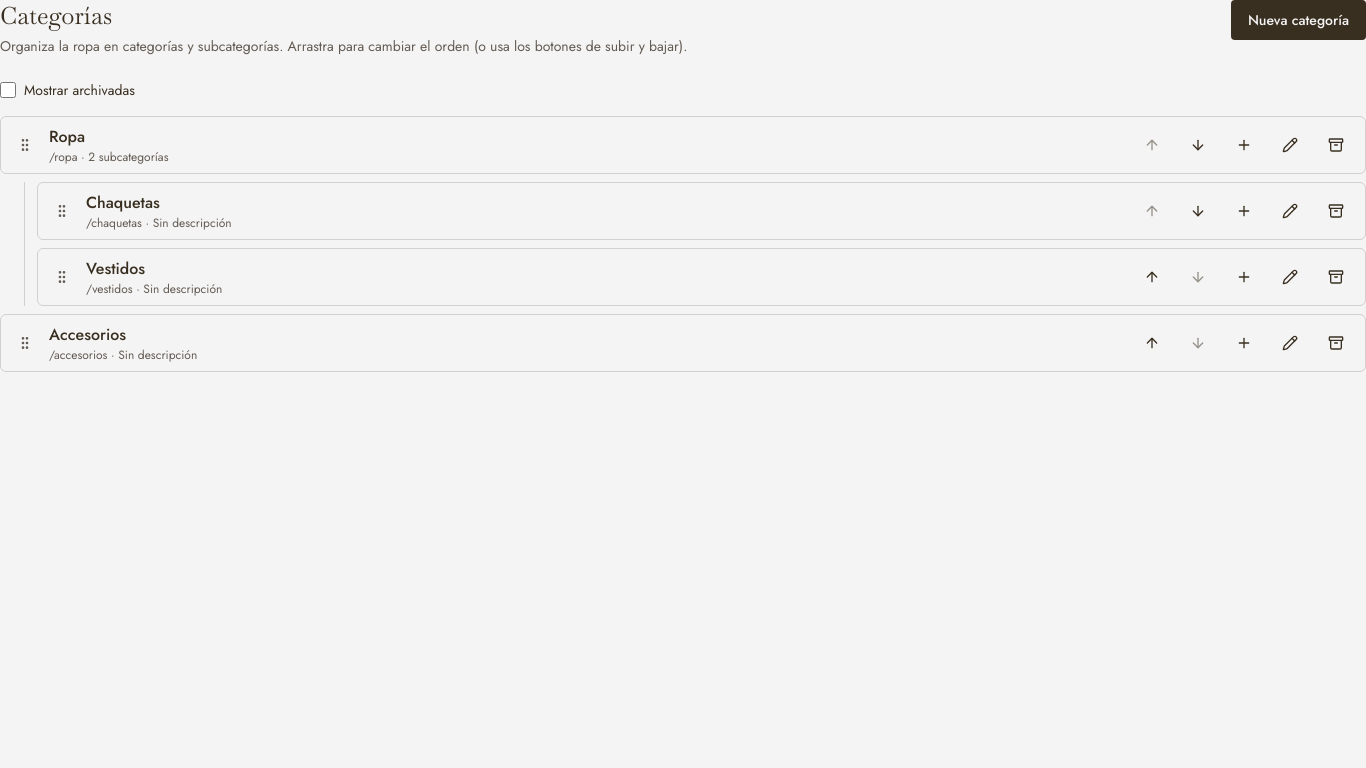
CategoriesPage · crear › crea con el slug generado del nombre, sin descripción ni padre, y avisa
The width and height of the screenshot is (1366, 768).
Expected: the text "Ropa" is shown, [49,125,85,148]
Click the button "Nueva categoría" at (1298, 20), box [1231,0,1365,40]
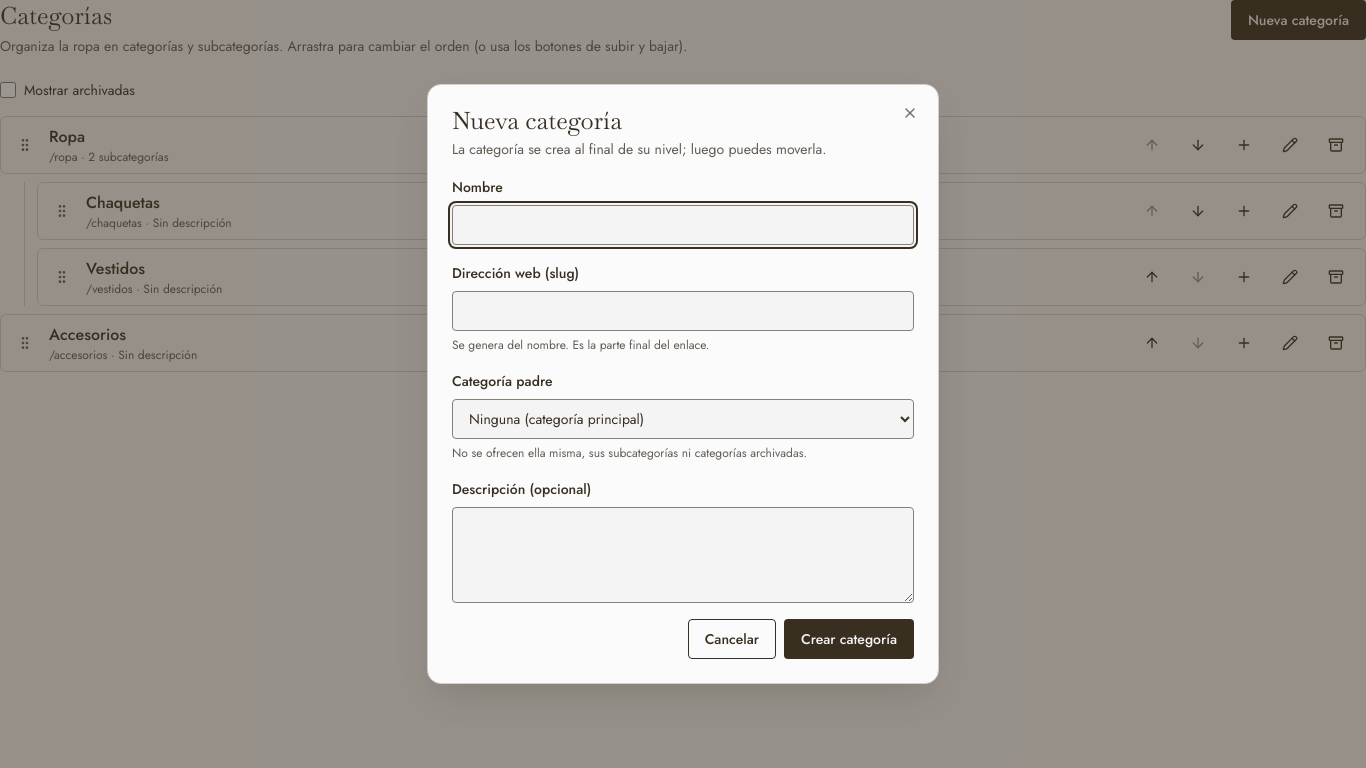
Type "Zapatos y Botas" into the field labelled "Nombre" at (683, 225), box [452,205,914,245]
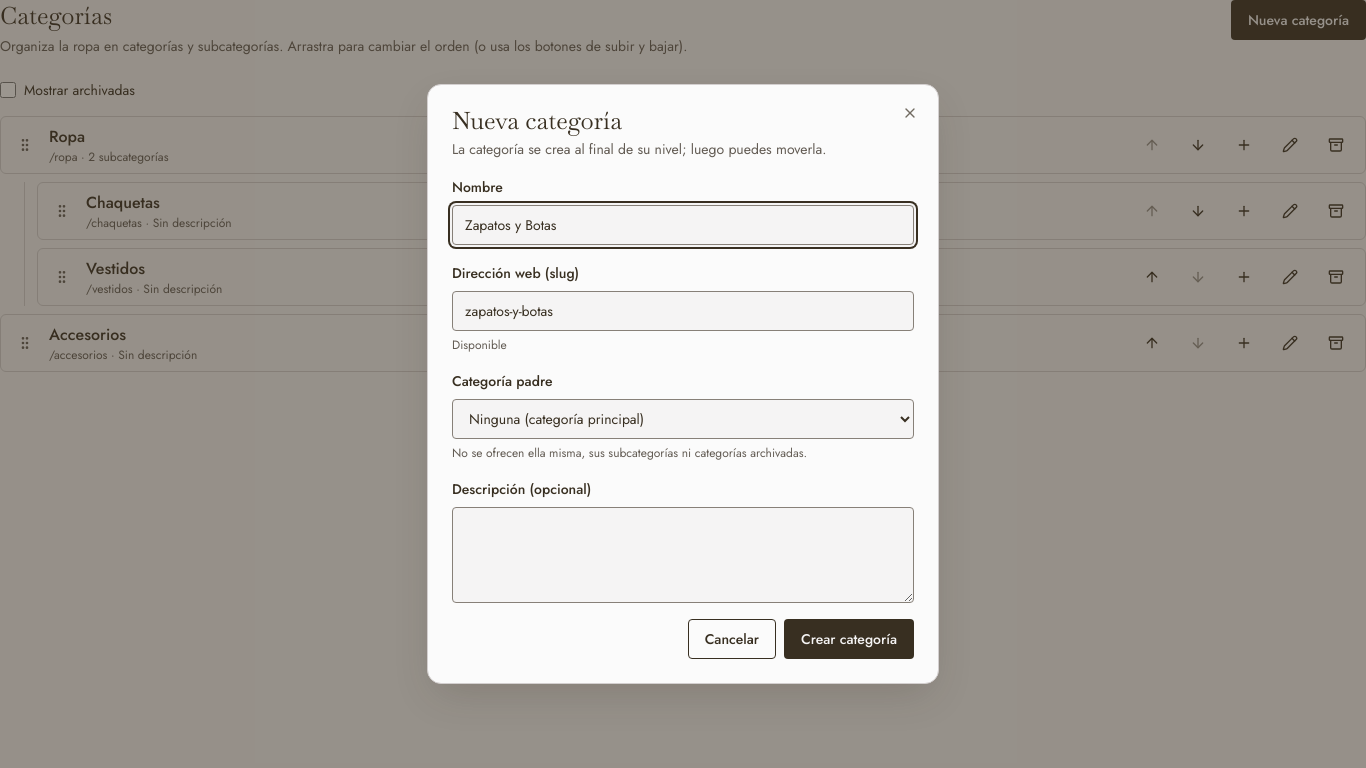
Now the field labelled "Dirección web (slug)" holds "zapatos-y-botas", box [452,291,914,331]
Now the text "Disponible" is shown, box [452,336,507,354]
Click the button "Crear categoría" at (849, 639), box [784,619,914,659]
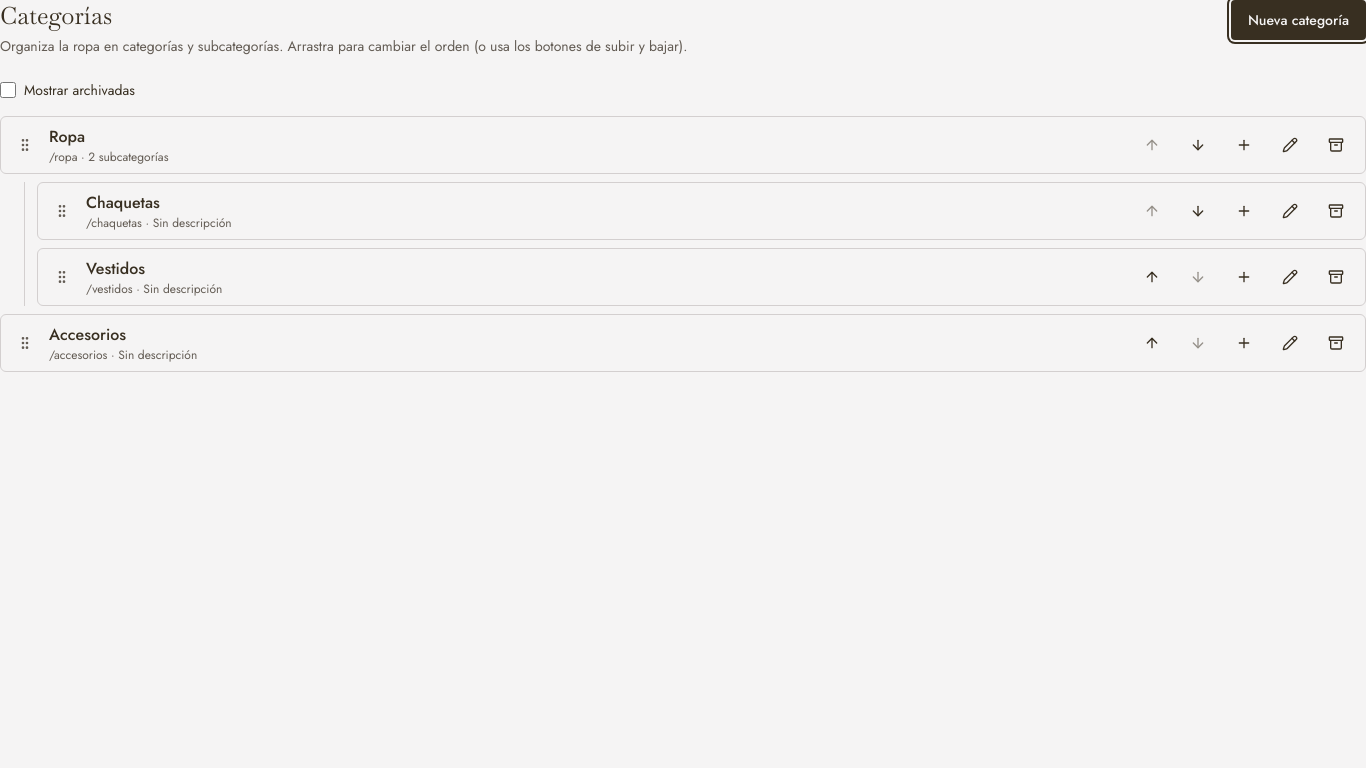
Now the dialog is gone
